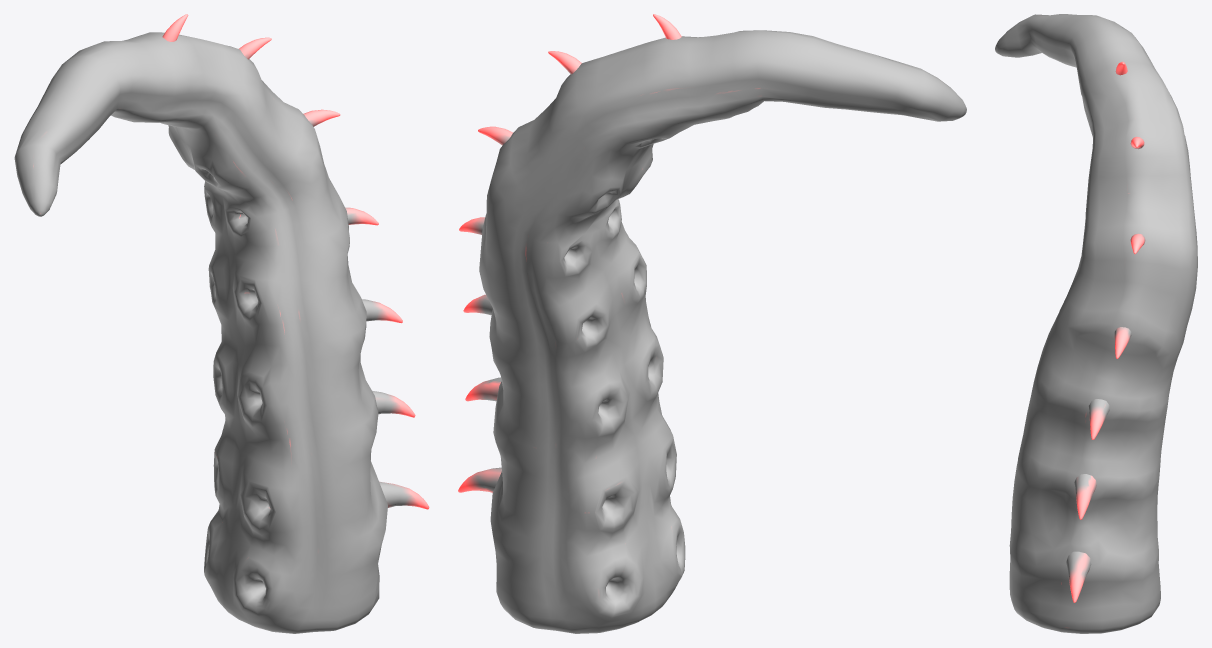
The model's file is wallTentacle_3.fbx.
3 views of the same model, side by side, from view 1: azimuth 30°, elevation 25°; view 2: azimuth 150°, elevation 25°; view 3: azimuth 270°, elevation 25° (orthographic). The views are drawn at different scales.
Parts seen in each view (by area): view 1: wallTentacle.3; view 2: wallTentacle.3; view 3: wallTentacle.3.
Boxes of the visible parts, x1=… form: wallTentacle.3: x1=14, y1=14, x2=429, y2=633; wallTentacle.3: x1=458, y1=14, x2=966, y2=633; wallTentacle.3: x1=995, y1=14, x2=1197, y2=633.
Bounding box in the file's own units: 519 × 671 × 242.
